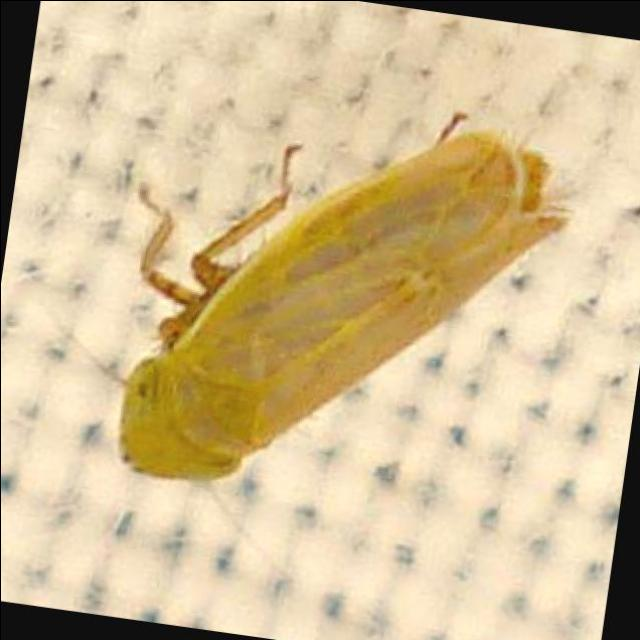green leaf hopper: (119, 113, 565, 481)
